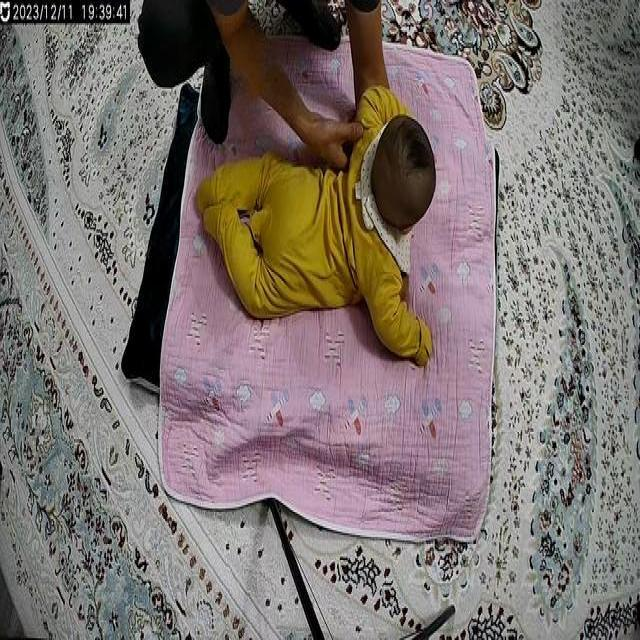baby: (190, 69, 447, 378)
